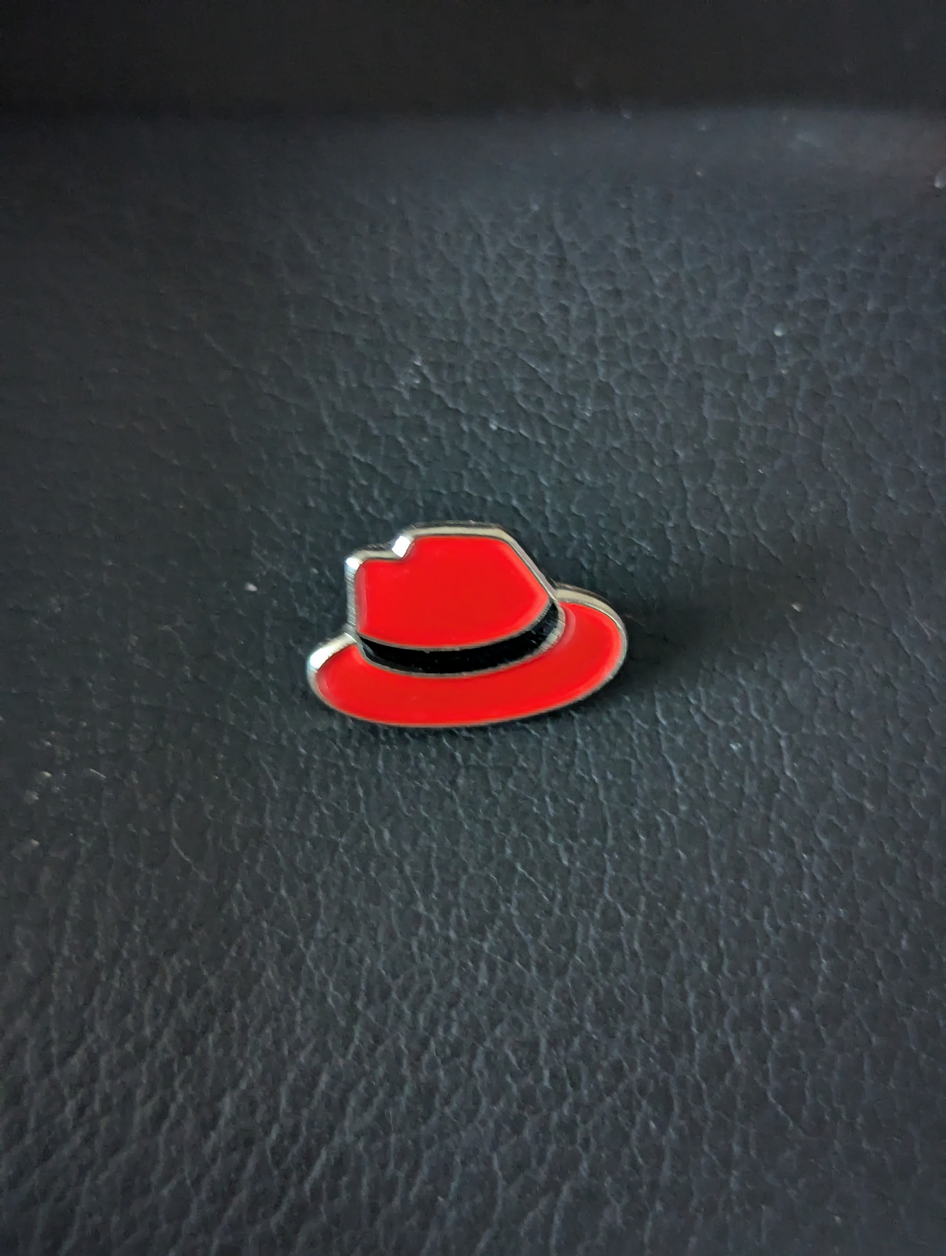Red-Hat: (224, 438, 763, 847)
